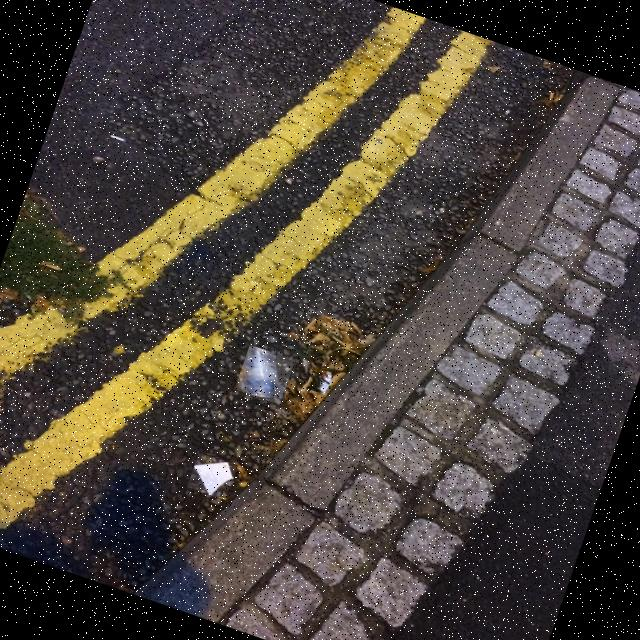Disposable plastic cup: (239, 348, 284, 399)
Normal paper: (194, 463, 232, 495)
Unlabeled litter: (311, 371, 331, 393)
